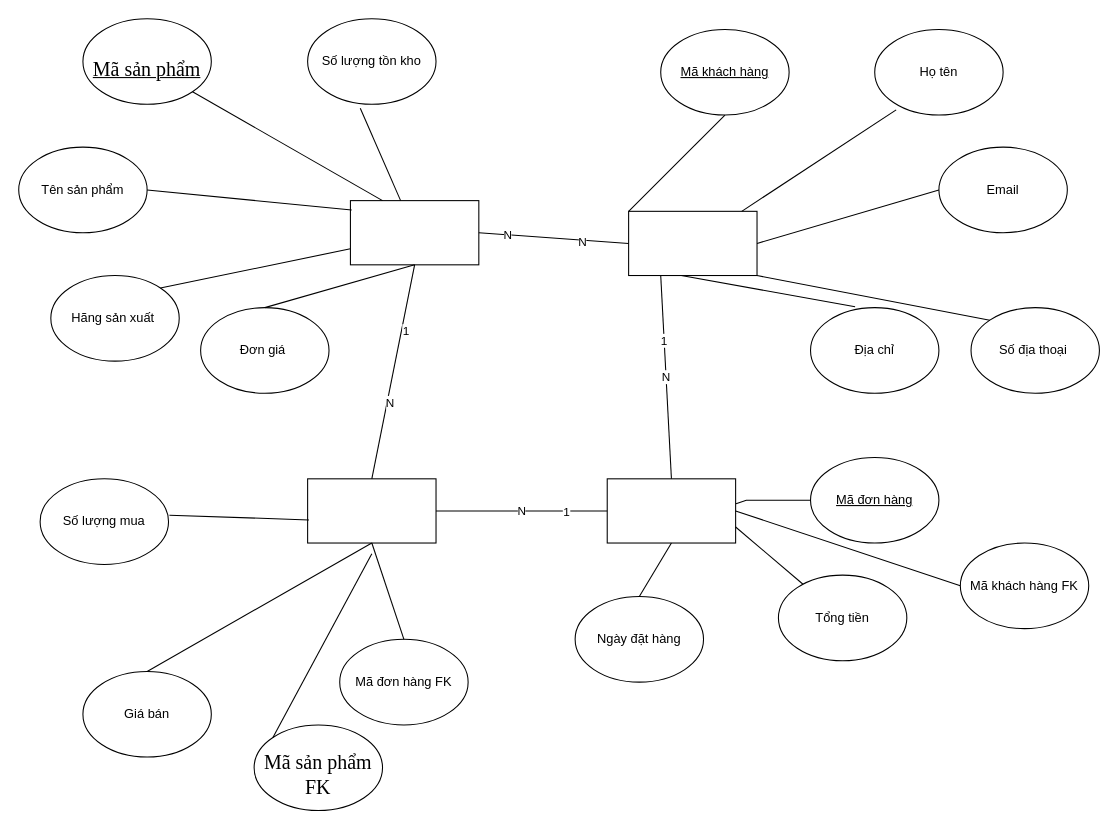
The diagram is 1118 pixels wide and 829 high, and some of its shapes have lost their labels. The shapes that lost their labels are listed below. From the top down, each one's box as (x1, y1, x2, y2) in pixels, then its label:
(349, 200, 479, 265): Product
(628, 210, 757, 276): Khách hàng
(307, 478, 436, 543): CHI tiết đơn hàng
(606, 478, 736, 543): Đơn hàng
